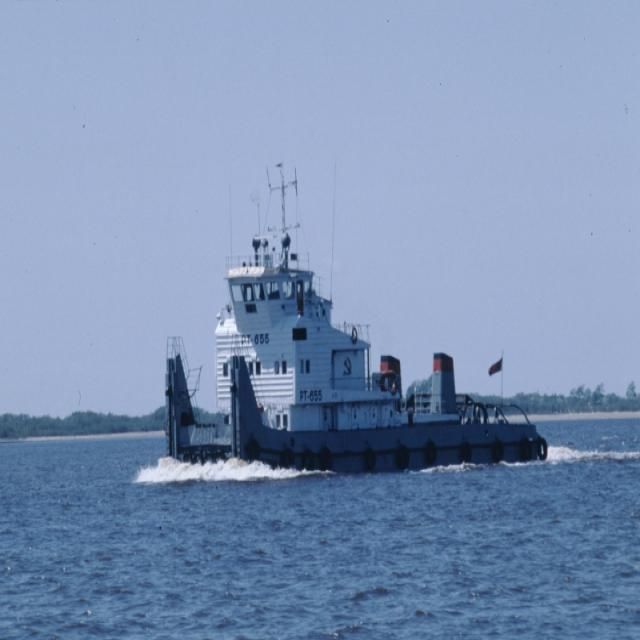tugboat: (157, 159, 554, 492)
